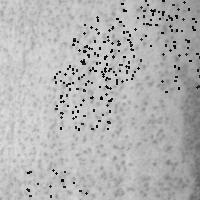pitted_surface: (4, 1, 183, 200), (170, 54, 200, 199), (56, 68, 116, 128), (72, 28, 131, 87), (84, 16, 140, 74), (54, 55, 110, 112), (143, 0, 200, 49), (161, 32, 200, 91), (25, 169, 85, 200), (121, 0, 176, 29)
